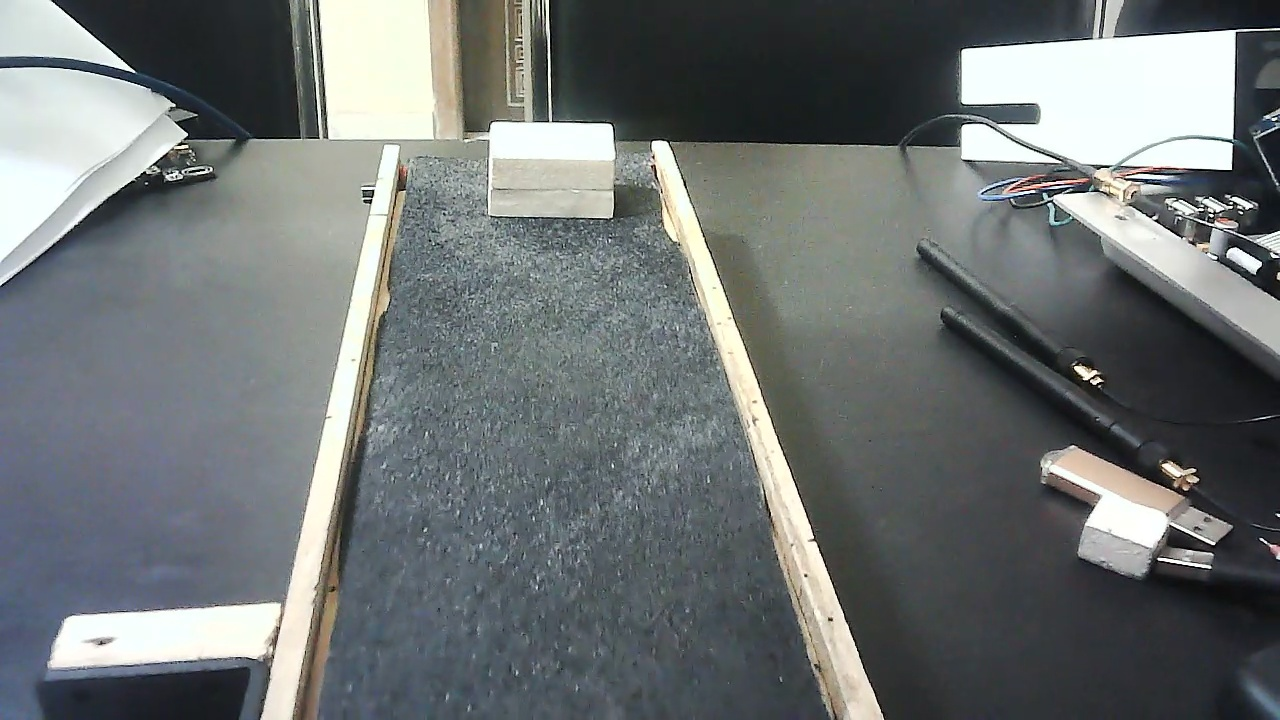BIG: (486, 103, 617, 234)
